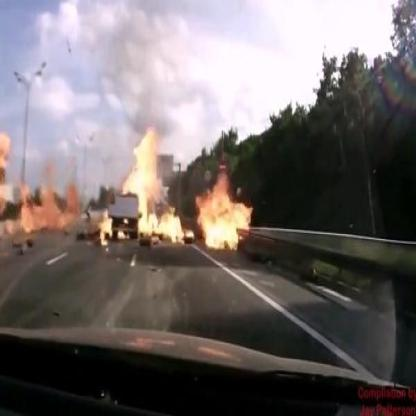fire: (95, 123, 196, 250), (0, 125, 85, 247), (198, 152, 254, 260)
